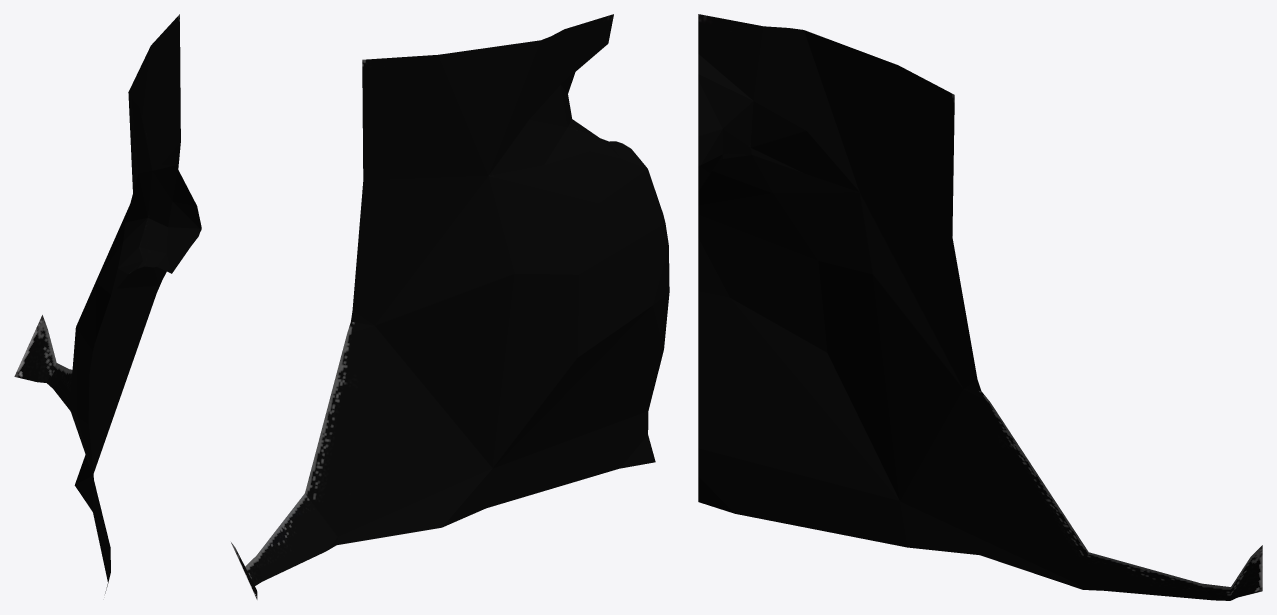
The picture shows the model from 3 angles, left to right: view 1: azimuth 30°, elevation 25°; view 2: azimuth 150°, elevation 25°; view 3: azimuth 270°, elevation 25°; orthographic projection. The views are drawn at different scales.
Size of the model in its own units: 0.7898 by 1.67 by 1.67.
2 materials, 2 textured.
